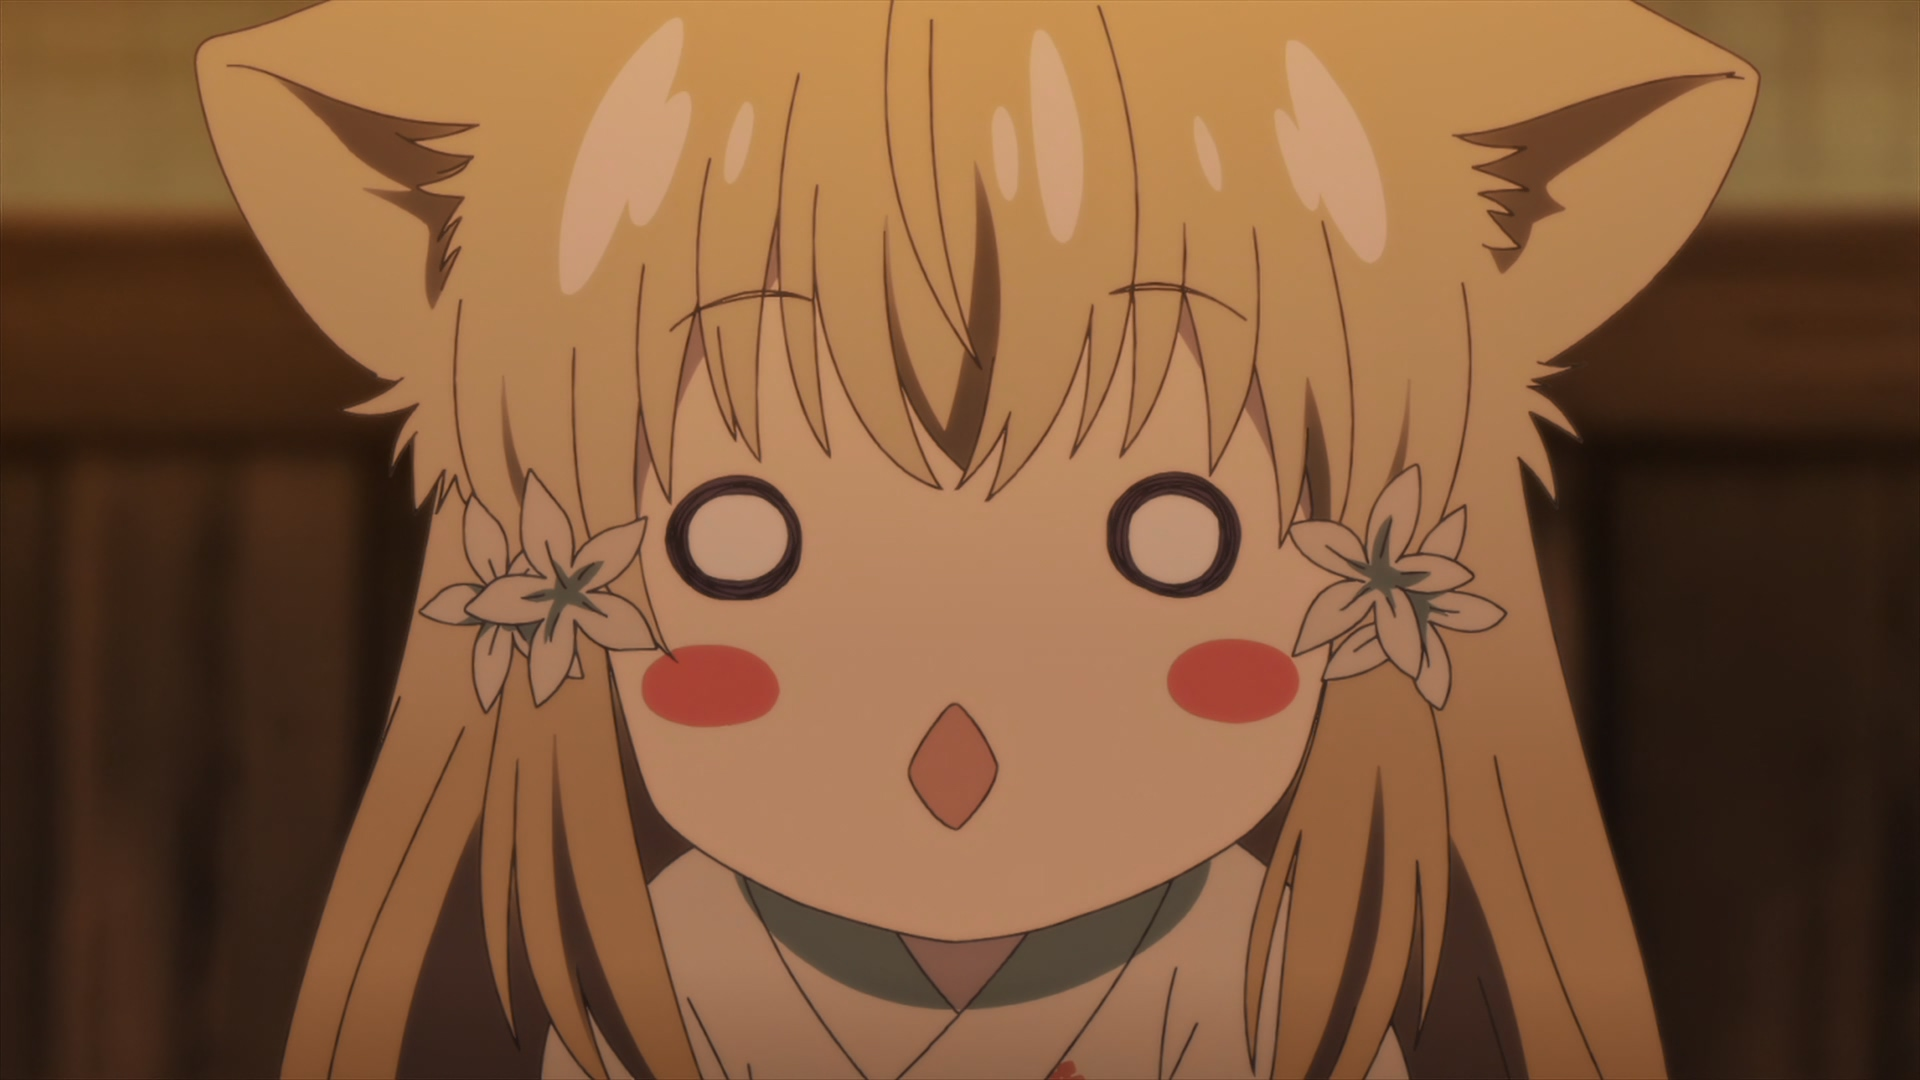柚: (194, 1, 1760, 1080)
